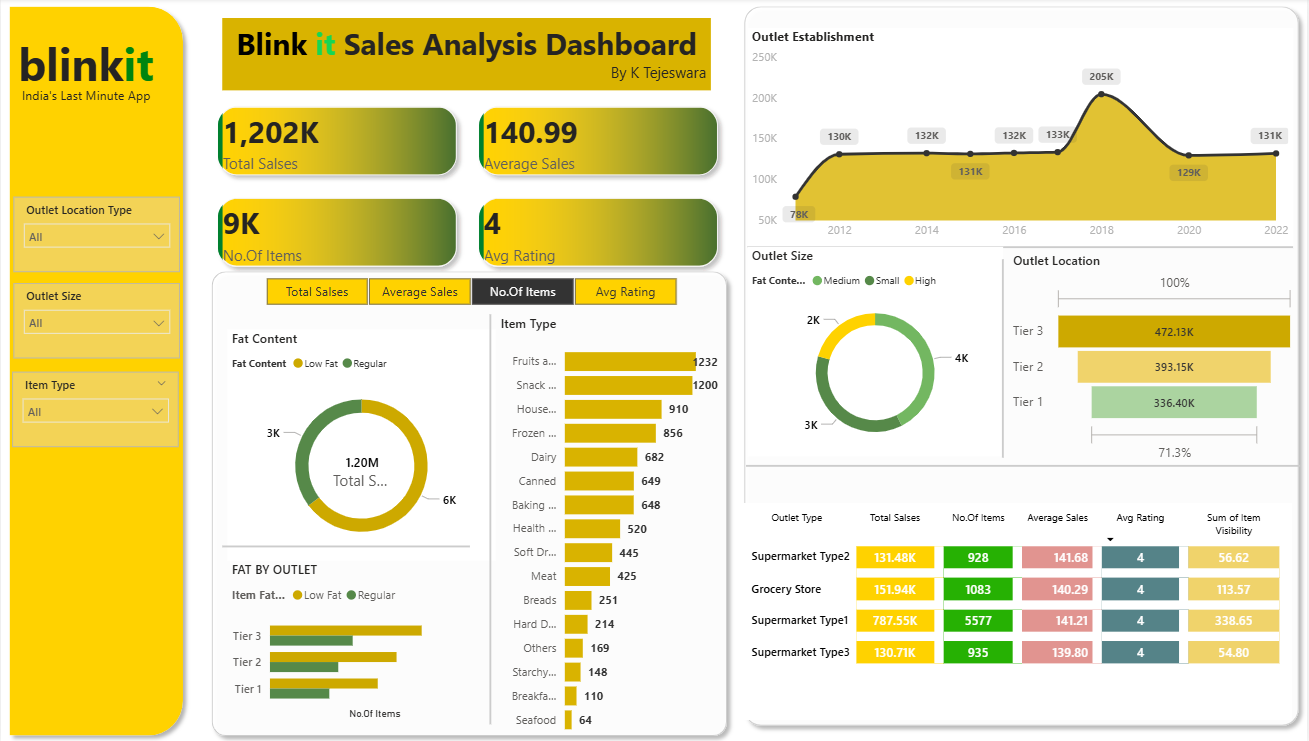

Layout of this report page (visuals, bound fields, positions):
{"tool":"powerbi","page":{"name":"Page 1","canvas":[1400,800],"ordinal":0},"visuals":[{"type":"shape","box":[0,0,204.1,800],"z":0},{"type":"textbox","box":[13.5,31.5,178.6,78],"z":1000},{"type":"textbox","box":[13.5,90.1,156.1,39],"z":2000},{"type":"cardVisual","fields":{"Data":["BlinkIT Grocery Data.Total Salses","BlinkIT Grocery Data.Average Sales","BlinkIT Grocery Data.No.Of Items","BlinkIT Grocery Data.Avg Rating"]},"box":[215.8,99.2,571,206.4],"z":3000},{"type":"shape","box":[217.6,283.7,570.3,516.3],"z":4000},{"type":"donutChart","title":"Fat Content","fields":{"Y":["BlinkIT Grocery Data.No.Of Items"],"Category":["BlinkIT Grocery Data.Item Fat Content"]},"box":[243.1,355.7,288.2,247.6],"z":5000},{"type":"cardVisual","fields":{"Data":["BlinkIT Grocery Data.Total Salses"]},"box":[339.2,472.8,97.6,69],"z":6000},{"type":"clusteredBarChart","title":"FAT BY OUTLET","fields":{"Y":["BlinkIT Grocery Data.No.Of Items"],"Category":["BlinkIT Grocery Data.Outlet Location Type"],"Series":["BlinkIT Grocery Data.Item Fat Content"]},"box":[243.1,603.3,276.2,175.6],"z":7000},{"type":"shape","box":[237.1,571.8,265.7,31.5],"z":8000},{"type":"shape","box":[519.3,339.2,12,439.8],"z":9000},{"type":"barChart","title":"Item Type","fields":{"Y":["BlinkIT Grocery Data.No.Of Items"],"Category":["BlinkIT Grocery Data.Item Type"]},"box":[531.3,339.2,243.1,460.8],"z":10000},{"type":"shape","box":[788,0,612.4,789.5],"z":11000},{"type":"lineChart","title":"Outlet Establishment","fields":{"Y":["BlinkIT Grocery Data.Total Salses"],"Category":["BlinkIT Grocery Data.Outlet Establishment Year"]},"box":[800,31.5,585.3,235.6],"z":12000},{"type":"shape","box":[800,250.6,585.3,33],"z":13000},{"type":"donutChart","title":"Outlet Size","fields":{"Y":["BlinkIT Grocery Data.No.Of Items"],"Category":["BlinkIT Grocery Data.Outlet Size"]},"box":[800,267.2,274.7,225.1],"z":14000},{"type":"shape","box":[1068.6,280.7,12,213.1],"z":15000},{"type":"shape","box":[798.5,492.3,594.3,19.5],"z":16000},{"type":"funnel","title":"Outlet Location","fields":{"Y":["Sum(BlinkIT Grocery Data.Sales)"],"Category":["BlinkIT Grocery Data.Outlet Location Type"]},"box":[1080.6,271.7,312.2,229.6],"z":17000},{"type":"pivotTable","fields":{"Rows":["BlinkIT Grocery Data.Outlet Type"],"Values":["BlinkIT Grocery Data.Total Salses","BlinkIT Grocery Data.No.Of Items","BlinkIT Grocery Data.Average Sales","BlinkIT Grocery Data.Avg Rating","Sum(BlinkIT Grocery Data.Item Visibility)"]},"box":[795.5,541.8,589.8,232.6],"z":18000},{"type":"slicer","fields":{"Values":["Metrics.Metrics"]},"box":[258.1,294.2,489.3,42],"z":19000},{"type":"slicer","fields":{"Values":["BlinkIT Grocery Data.Outlet Location Type"]},"box":[13.5,213.1,178.6,81],"z":20000},{"type":"slicer","fields":{"Values":["BlinkIT Grocery Data.Outlet Size"]},"box":[13.5,306.2,178.6,81],"z":21000},{"type":"slicer","fields":{"Values":["BlinkIT Grocery Data.Item Type"]},"box":[12,400.7,178.6,81],"z":22000},{"type":"textbox","box":[237.3,21.4,524.1,77.7],"z":22001}]}

Visuals, with their boxes in screenshot pixels (x1, y1, x2, y2), scaled from the page's 1400x800 canvas onto the 1309x741 screenshot:
shape: [0,0,191,740]
textbox: [13,29,180,101]
textbox: [13,83,159,120]
cardVisual - BlinkIT Grocery Data.Total Salses x BlinkIT Grocery Data.Average Sales: [202,92,736,283]
shape: [203,263,737,740]
"Fat Content" donutChart: [227,329,497,559]
cardVisual - BlinkIT Grocery Data.Total Salses: [317,438,408,502]
"FAT BY OUTLET" clusteredBarChart: [227,559,486,721]
shape: [222,530,470,559]
shape: [486,314,497,722]
"Item Type" barChart: [497,314,724,740]
shape: [737,0,1308,731]
"Outlet Establishment" lineChart: [748,29,1295,247]
shape: [748,232,1295,263]
"Outlet Size" donutChart: [748,247,1005,456]
shape: [999,260,1010,457]
shape: [747,456,1302,474]
"Outlet Location" funnel: [1010,252,1302,464]
pivotTable - BlinkIT Grocery Data.Outlet Type x BlinkIT Grocery Data.Total Salses: [744,502,1295,717]
slicer - Metrics.Metrics: [241,273,699,311]
slicer - BlinkIT Grocery Data.Outlet Location Type: [13,197,180,272]
slicer - BlinkIT Grocery Data.Outlet Size: [13,284,180,359]
slicer - BlinkIT Grocery Data.Item Type: [11,371,178,446]
textbox: [222,20,712,92]
